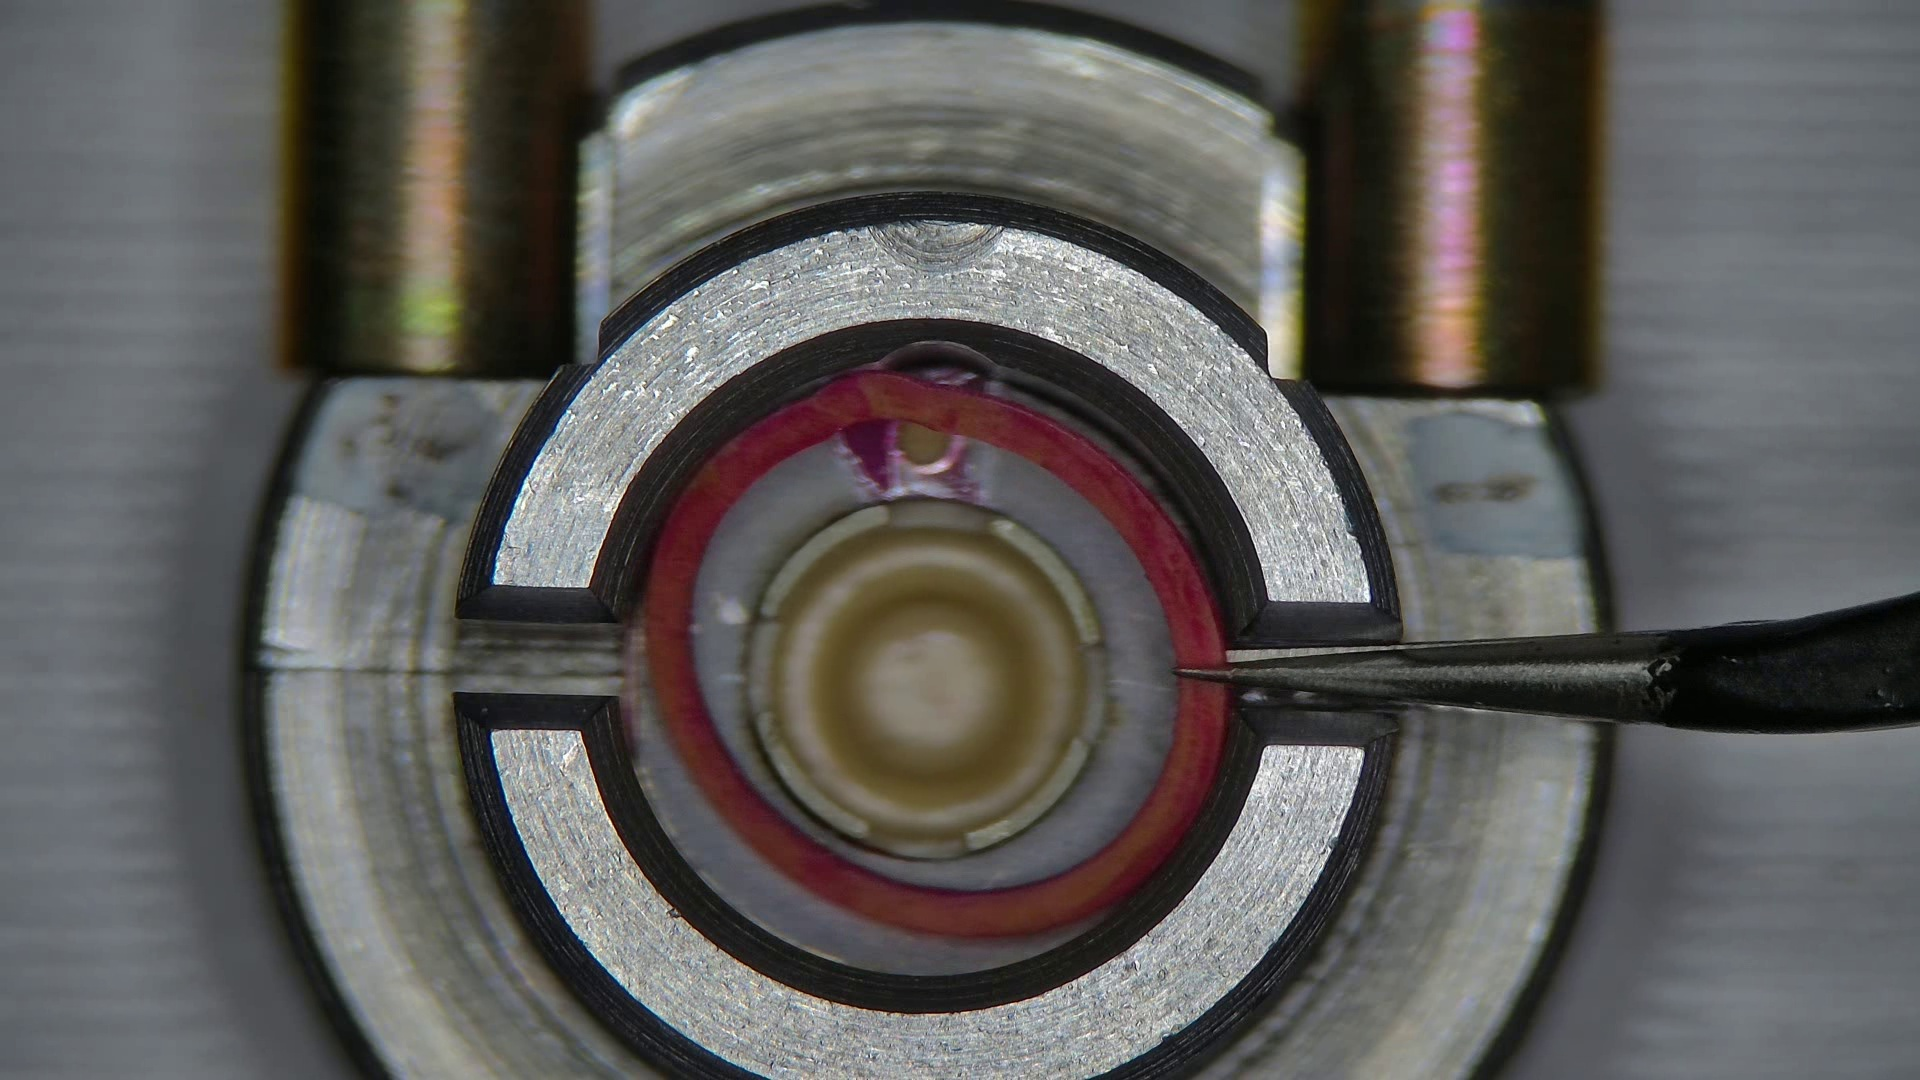GreyOring: (644, 373, 1226, 938)
YellowOring: (694, 425, 1174, 887), (626, 620, 1089, 976), (688, 620, 702, 630)
